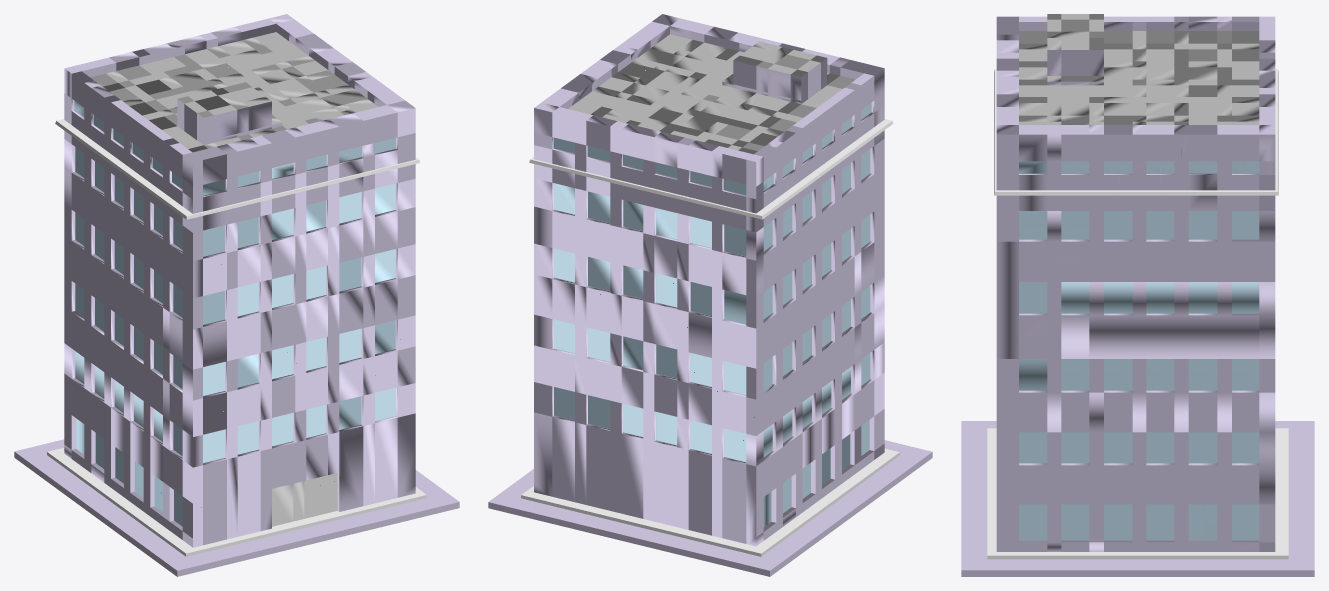
The model's file is building9.glb.
3 views of the same model, side by side, from view 1: azimuth 30°, elevation 25°; view 2: azimuth 150°, elevation 25°; view 3: azimuth 270°, elevation 25° (orthographic). The views are drawn at different scales.
Parts seen in each view (by area): view 1: Cube_163_10; view 2: Cube_163_10; view 3: Cube_163_10.
Part boxes in pixels (x1,y1,x2,y2): Cube_163_10: (14, 14, 459, 576); Cube_163_10: (488, 14, 932, 576); Cube_163_10: (961, 14, 1314, 576).
Size of the model in its own units: 3.57 by 5 by 3.57.
